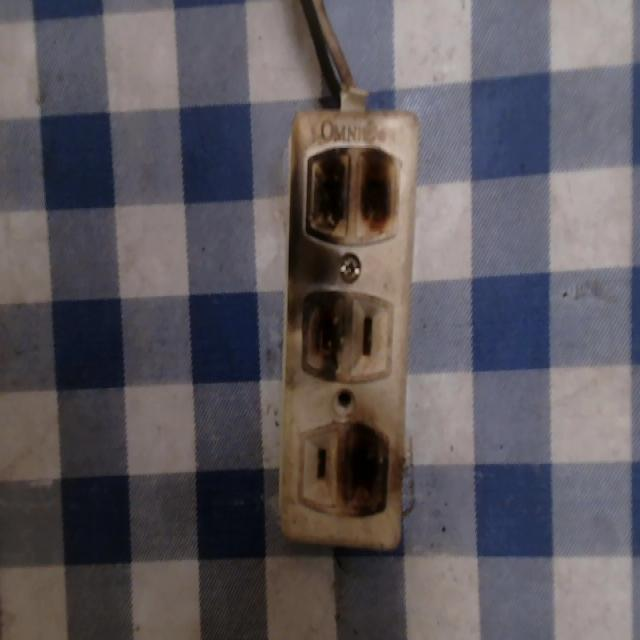-: (293, 132, 405, 245), (290, 291, 357, 380), (344, 420, 390, 520)
